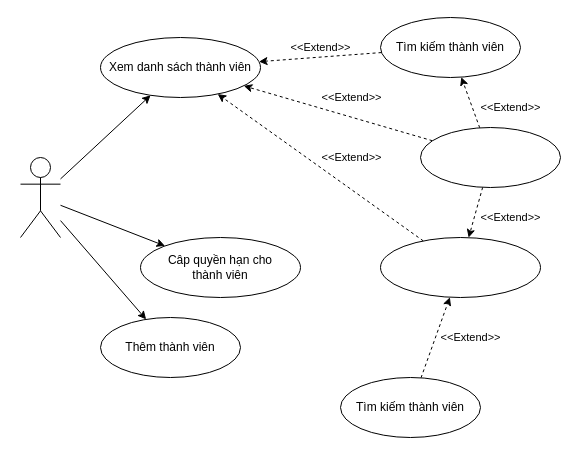
Image size: 578x455. Some labels were removed from this diagram. Each missing label, with the centre of its shape:
Quản trị: pixel 40 197
Sửa thông tin thành viên: pixel 460 267
Xóa thành viên: pixel 490 157
